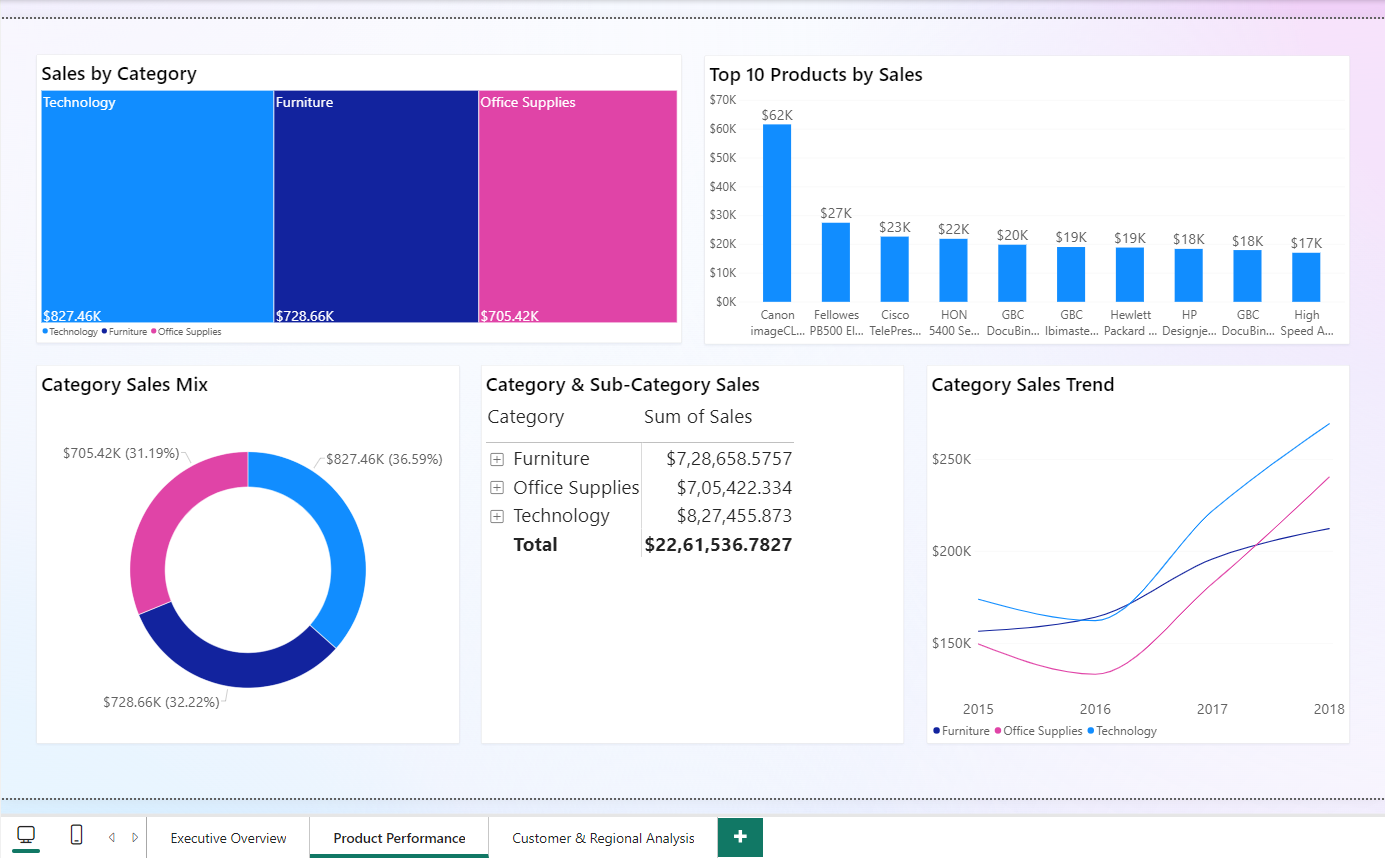

Layout of this report page (visuals, bound fields, positions):
{"tool":"powerbi","page":{"name":"Product Performance","canvas":[3840,2160],"ordinal":1},"visuals":[{"type":"treemap","title":"Sales by Category","fields":{"Group":["Superstore.Category","Superstore.Sub-Category"],"Values":["Sum(Superstore.Sales)"]},"box":[100,100,1790,800],"z":3},{"type":"clusteredColumnChart","title":"Top 10 Products by Sales","fields":{"Category":["Superstore.Product Name"],"Y":["Sum(Superstore.Sales)"]},"box":[1950,100.9,1790,800],"z":4},{"type":"donutChart","title":"Category Sales Mix","fields":{"Category":["Superstore.Category"],"Y":["Sum(Superstore.Sales)"]},"box":[100,960,1173,1050],"z":5},{"type":"lineChart","title":"Category Sales Trend","fields":{"Category":["Superstore.Order Date.Variation.Date Hierarchy.Year"],"Series":["Superstore.Category"],"Y":["Sum(Superstore.Sales)"]},"box":[2568,960.7,1173,1050],"z":6},{"type":"pivotTable","title":"Category & Sub-Category Sales","fields":{"Rows":["Superstore.Category","Superstore.Sub-Category"],"Values":["Sum(Superstore.Sales)"]},"box":[1333,960,1173,1050],"z":7}]}

Visuals, with their boxes on the page's 3840x2160 design canvas (x1, y1, x2, y2). These are canvas units, not pixel positions in the 1385x858 screenshot, which may show the page scaled, cropped or inside an application window:
"Sales by Category" treemap: <box>100,100,1890,900</box>
"Top 10 Products by Sales" clusteredColumnChart: <box>1950,101,3740,901</box>
"Category Sales Mix" donutChart: <box>100,960,1273,2010</box>
"Category Sales Trend" lineChart: <box>2568,961,3741,2011</box>
"Category & Sub-Category Sales" pivotTable: <box>1333,960,2506,2010</box>
